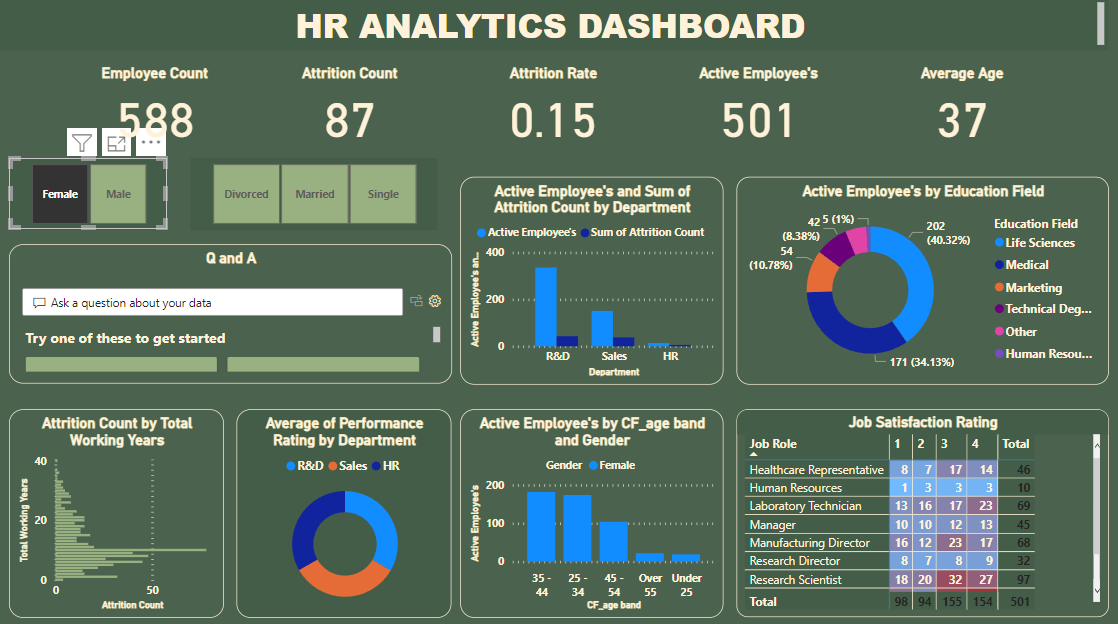

What the dashboard file says about the page in this screenshot:
{"tool":"powerbi","page":{"name":"Page 1","canvas":[1280,720],"ordinal":0},"visuals":[{"type":"card","title":"Employee Count","fields":{"Values":["Sum(HR data.Employee Count)"]},"box":[96.1,75.5,164.7,94.7],"z":0,"group":"g1"},{"type":"card","title":"Attrition Count","fields":{"Values":["Sum(HR data.Attrition Count)"]},"box":[318.9,76,164.7,94.7],"z":1000,"group":"g1"},{"type":"card","title":"Average Age","fields":{"Values":["Avg(HR data.Age)"]},"box":[1018.8,76,164.7,94.7],"z":2000,"group":"g1"},{"type":"card","title":"Active Employee''s","fields":{"Values":["HR data.Active Employee's"]},"box":[785.5,76,164.7,94.7],"z":3000,"group":"g1"},{"type":"card","title":"Attrition Rate","fields":{"Values":["HR data.Attrition Rate"]},"box":[552.2,76,164.7,94.7],"z":4000,"group":"g1"},{"type":"clusteredColumnChart","fields":{"Category":["HR data.Department"],"Y":["HR data.Active Employee's","Sum(HR data.Attrition Count)"]},"box":[526.9,204.5,300.5,237.4],"z":5000},{"type":"donutChart","fields":{"Y":["HR data.Active Employee's"],"Category":["HR data.Education Field"]},"box":[842.5,204.5,425.4,237.4],"z":6000},{"type":"columnChart","fields":{"Category":["HR data.CF_age band"],"Y":["HR data.Active Employee's"],"Series":["HR data.Gender"]},"box":[526.9,470.7,300.5,238.8],"z":7000},{"type":"pivotTable","title":"Job Satisfaction Rating","fields":{"Rows":["HR data.Job Role"],"Values":["HR data.Active Employee's"],"Columns":["HR data.Job Satisfaction"]},"box":[842.5,470.7,425.4,237.4],"z":8000},{"type":"donutChart","fields":{"Y":["Avg(HR data.Performance Rating)"],"Category":["HR data.Department"]},"box":[271.7,470.7,245.6,238.8],"z":9000},{"type":"qnaVisual","title":"Q and A","box":[11,281.3,506.3,159.2],"z":10000},{"type":"clusteredBarChart","title":" Attrition Count by Total Working Years","fields":{"Category":["HR data.Total Working Years"],"Y":["CountNonNull(HR data.Attrition Count)"]},"box":[11,470.7,245.6,238.8],"z":10001},{"type":"slicer","fields":{"Values":["HR data.Gender"]},"box":[11,182.5,181.1,82.3],"z":10002},{"type":"slicer","fields":{"Values":["HR data.Marital Status"]},"box":[218.2,182.5,282.7,82.3],"z":10003},{"type":"group","id":"g1","title":"Group 1","box":[96.1,75.5,1086.8,94.7],"z":10004},{"type":"textbox","box":[0,0,1267.9,60.4],"z":10005}]}

Visuals, with their boxes in screenshot pixels (x1, y1, x2, y2), scaled from the page's 1280x720 canvas onto the 1118x624 screenshot:
"Employee Count" card: [x1=84, y1=65, x2=228, y2=148]
"Attrition Count" card: [x1=279, y1=66, x2=422, y2=148]
"Average Age" card: [x1=890, y1=66, x2=1034, y2=148]
"Active Employee''s" card: [x1=686, y1=66, x2=830, y2=148]
"Attrition Rate" card: [x1=482, y1=66, x2=626, y2=148]
clusteredColumnChart - HR data.Department x HR data.Active Employee's: [x1=460, y1=177, x2=723, y2=383]
donutChart - HR data.Active Employee's x HR data.Education Field: [x1=736, y1=177, x2=1107, y2=383]
columnChart - HR data.CF_age band x HR data.Active Employee's: [x1=460, y1=408, x2=723, y2=615]
"Job Satisfaction Rating" pivotTable: [x1=736, y1=408, x2=1107, y2=614]
donutChart - Avg(HR data.Performance Rating) x HR data.Department: [x1=237, y1=408, x2=452, y2=615]
"Q and A" qnaVisual: [x1=10, y1=244, x2=452, y2=382]
" Attrition Count by Total Working Years" clusteredBarChart: [x1=10, y1=408, x2=224, y2=615]
slicer - HR data.Gender: [x1=10, y1=158, x2=168, y2=229]
slicer - HR data.Marital Status: [x1=191, y1=158, x2=438, y2=229]
"Group 1" group: [x1=84, y1=65, x2=1033, y2=148]
textbox: [x1=0, y1=0, x2=1107, y2=52]
